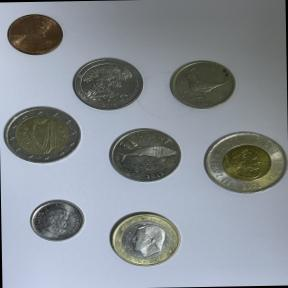coin: (195, 121, 288, 199), (1, 103, 86, 168), (102, 208, 188, 272), (104, 124, 186, 187), (70, 53, 150, 113), (0, 7, 68, 60), (28, 196, 90, 244)
